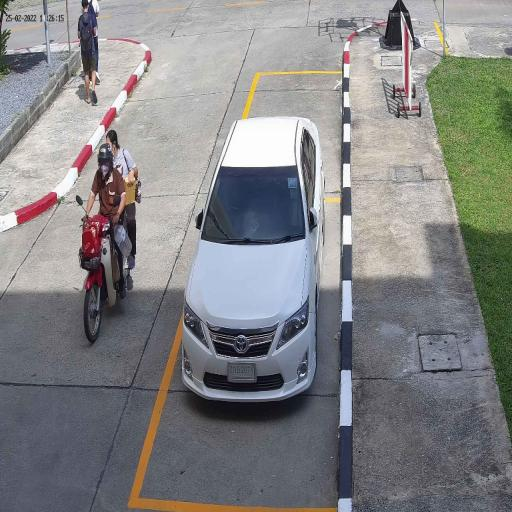car: (182, 116, 325, 402)
motorcycle: (83, 216, 116, 342)
